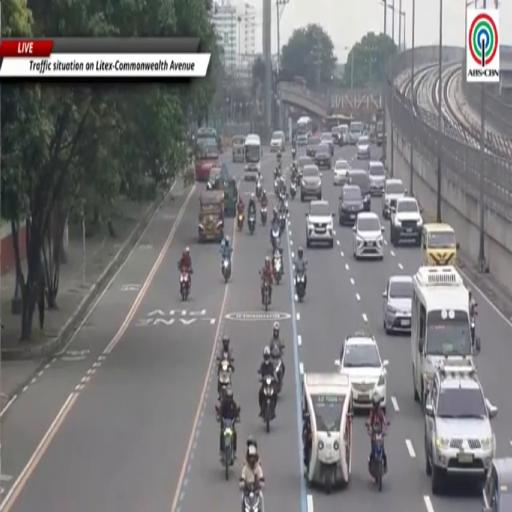bus: (195, 128, 219, 181), (245, 134, 261, 180), (296, 117, 312, 146), (325, 115, 353, 131)
car: (425, 359, 497, 494), (335, 331, 388, 410), (383, 276, 413, 333), (390, 197, 423, 246), (483, 457, 511, 511), (353, 213, 384, 260), (306, 201, 333, 247), (382, 179, 407, 218), (339, 185, 363, 225), (349, 169, 371, 211), (301, 165, 321, 201), (369, 162, 386, 196), (315, 142, 331, 169), (334, 159, 350, 185), (349, 121, 364, 145), (306, 136, 320, 158), (270, 132, 285, 152), (357, 136, 370, 158), (321, 133, 333, 156), (297, 156, 314, 172), (340, 125, 350, 146), (332, 126, 342, 146)
jeepney: (199, 190, 224, 243), (195, 138, 219, 182), (232, 135, 245, 163)
motorcycle: (366, 423, 384, 491), (222, 420, 235, 481), (262, 376, 275, 433), (218, 360, 232, 402), (242, 487, 262, 511), (273, 356, 283, 394), (273, 248, 282, 284), (180, 271, 190, 301), (295, 272, 305, 301), (271, 223, 280, 250), (471, 307, 477, 344), (222, 258, 231, 282), (263, 281, 270, 311), (248, 212, 255, 234), (279, 212, 286, 233), (237, 213, 244, 231), (290, 181, 296, 199), (256, 181, 262, 199), (261, 207, 266, 226), (274, 180, 279, 197), (274, 166, 279, 179), (277, 153, 281, 164), (292, 149, 296, 159)
truck: (375, 109, 384, 146)
